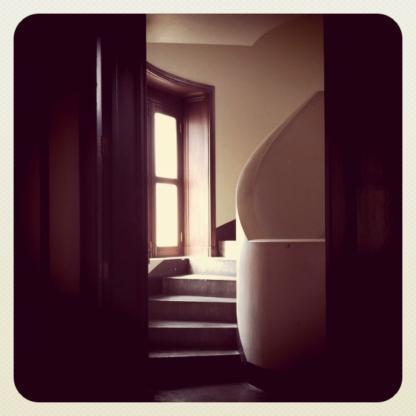stair: (145, 246, 250, 390)
